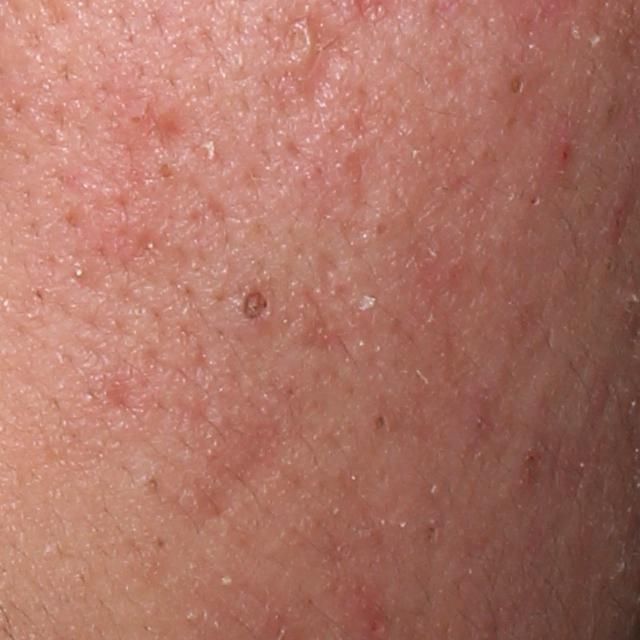atrophic_scar: (291, 16, 366, 123), (156, 91, 204, 163), (294, 295, 344, 356), (340, 140, 378, 213)
comedo: (234, 287, 274, 329), (142, 471, 168, 500), (371, 410, 394, 437), (506, 75, 528, 98)
papule: (554, 145, 573, 165)
